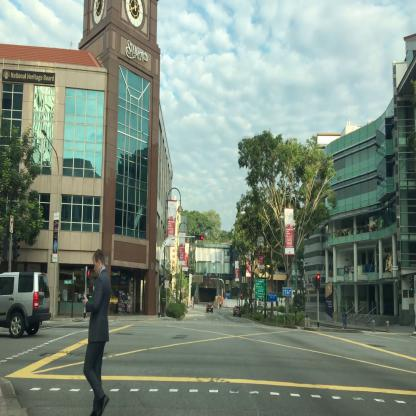red_traffic_light: (316, 273, 320, 289), (195, 234, 203, 240)
